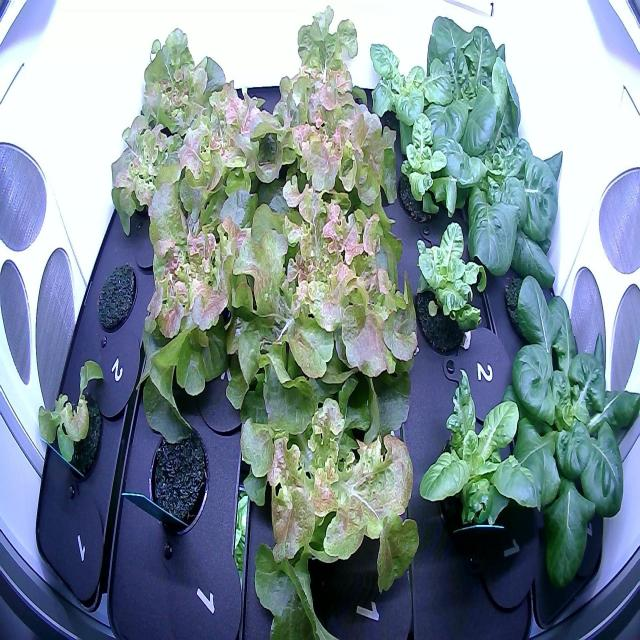pod: (142, 414, 214, 540), (91, 254, 143, 339)
young: (479, 266, 639, 610), (413, 364, 534, 582), (450, 90, 572, 300), (412, 6, 533, 170), (406, 215, 492, 376), (361, 34, 453, 164), (390, 112, 461, 230)
